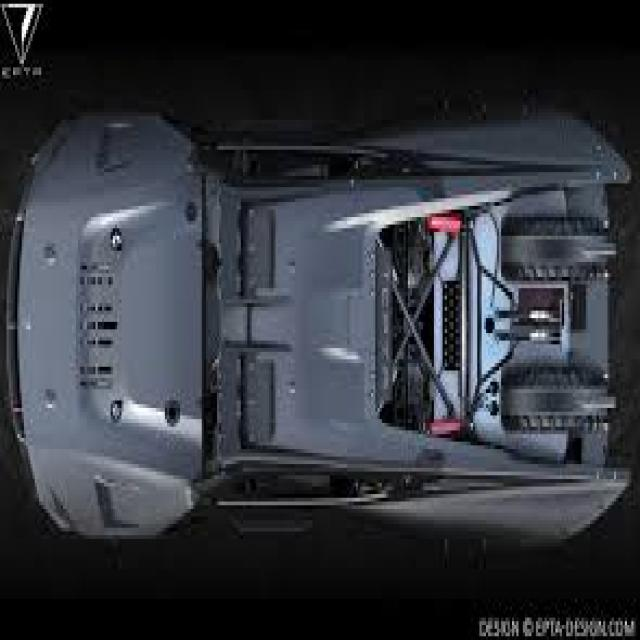truck: (24, 113, 622, 543)
